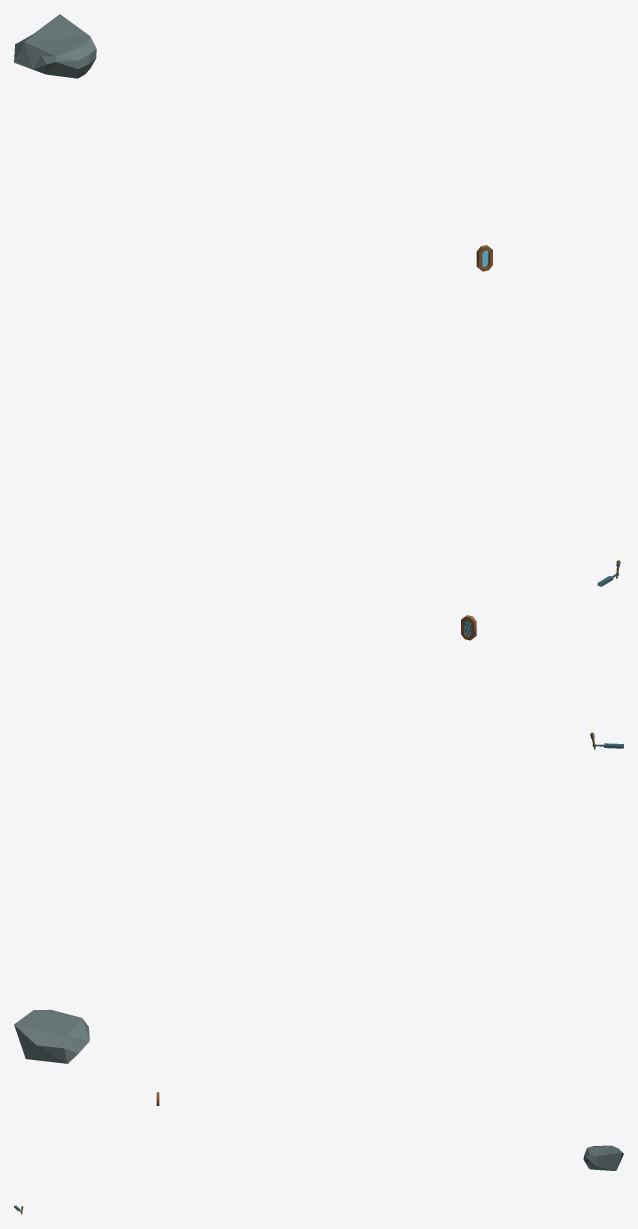
The picture shows the model from 3 angles, top to bottom: view 1: azimuth 30°, elevation 25°; view 2: azimuth 150°, elevation 25°; view 3: azimuth 270°, elevation 25°; orthographic projection. The views are drawn at different scales.
Visible parts, largest first — view 1: Box901_rock_0; view 2: Box901_rock_0; view 3: Box901_rock_0.
Part boxes in pixels (left/top/right/bottom): Box901_rock_0: left=14, top=14, right=96, bottom=78; Box901_rock_0: left=14, top=1009, right=89, bottom=1063; Box901_rock_0: left=583, top=1145, right=623, bottom=1170.
Bounding box in the file's own units: 317 × 1096 × 4987.
